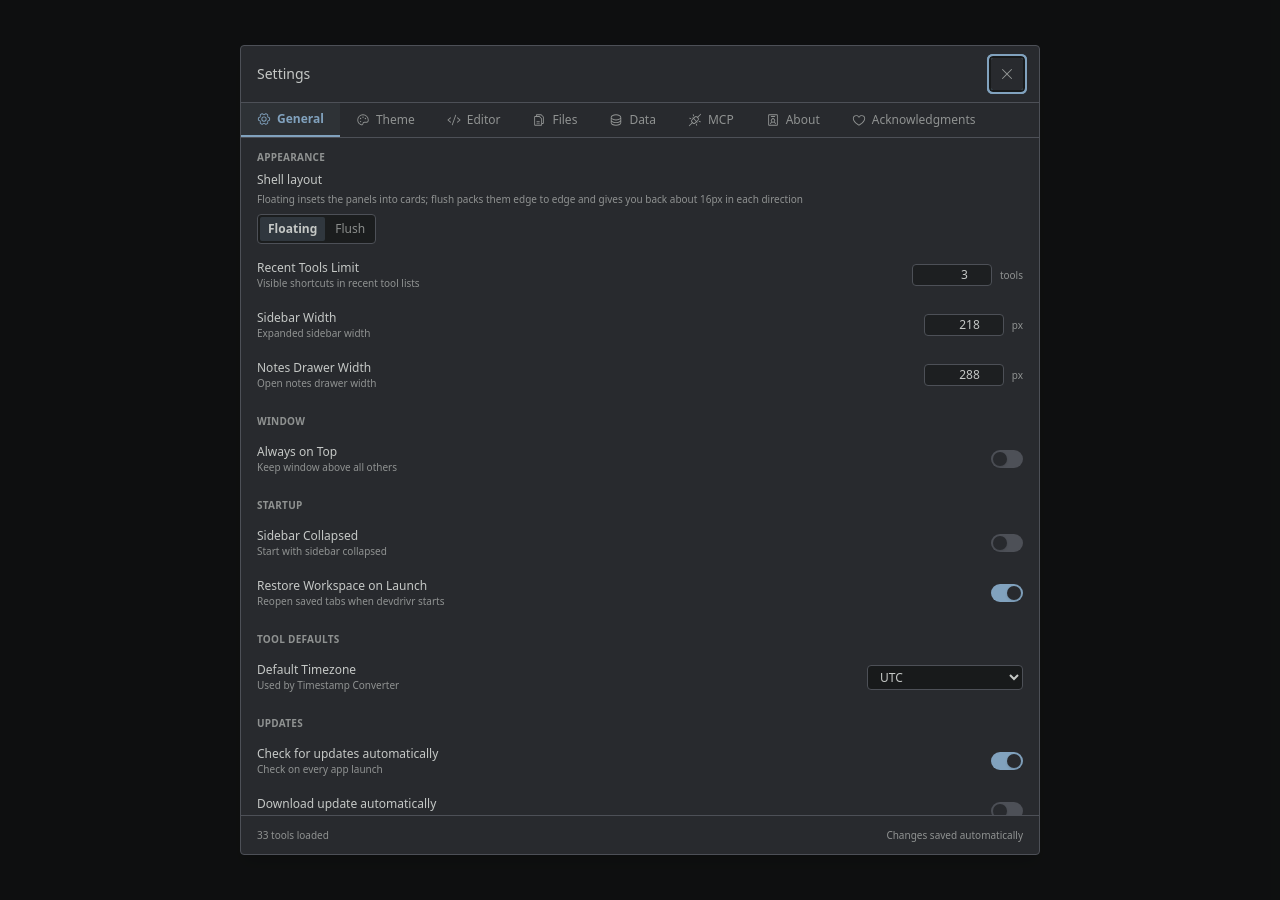
it: SettingsPanel › disables dataset actions until the store has loaded
What coordinates should you click on to do the following:
click the tab "Data"
I would click on:
 (633, 120)
Its box is [593, 103, 672, 137].
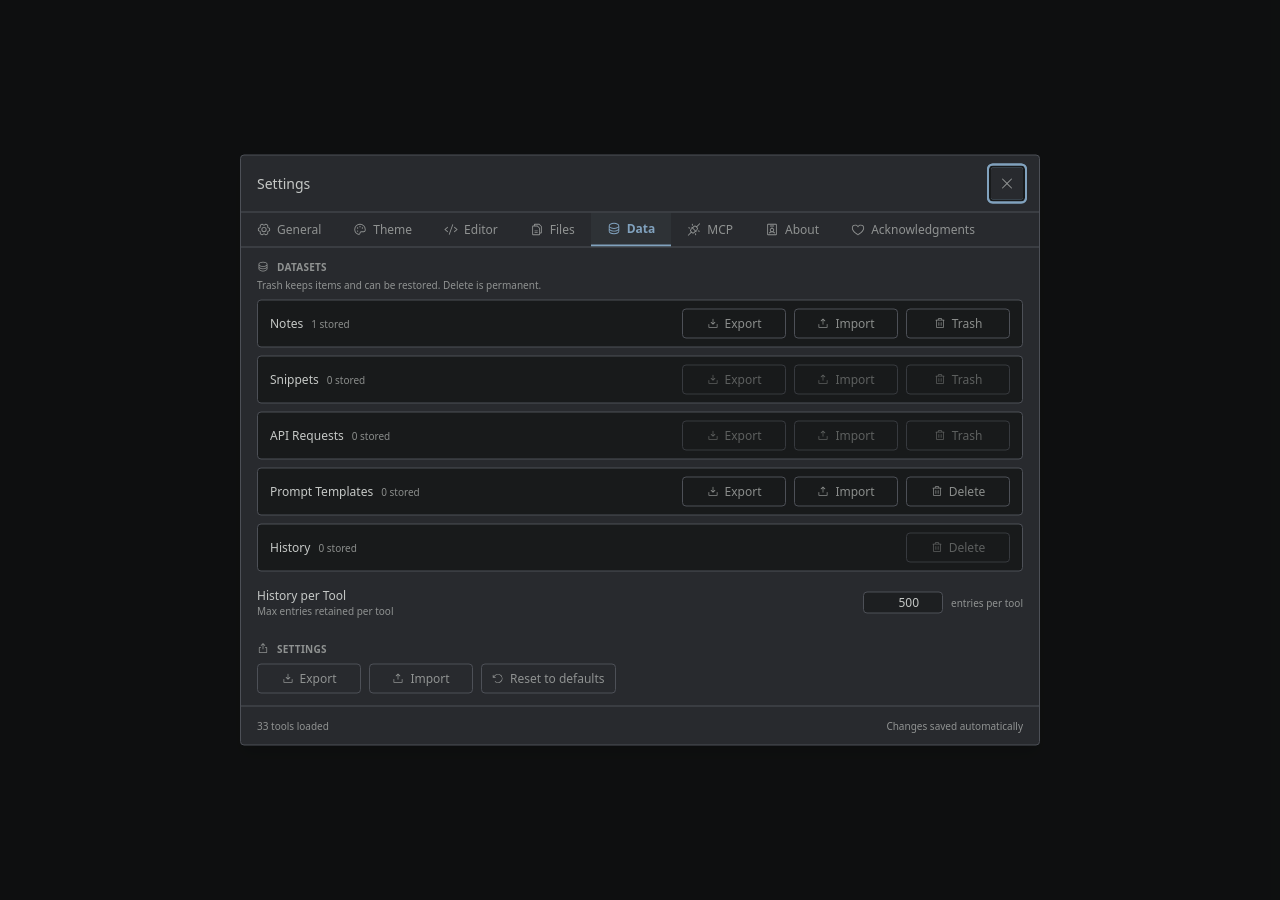
Result: the heading "Datasets" is shown at [257, 260, 327, 274]
Result: the button with aria-label "Export API requests to a file" is disabled at [682, 420, 786, 450]
Result: the button with aria-label "Move API requests to Trash" is disabled at [906, 420, 1010, 450]
